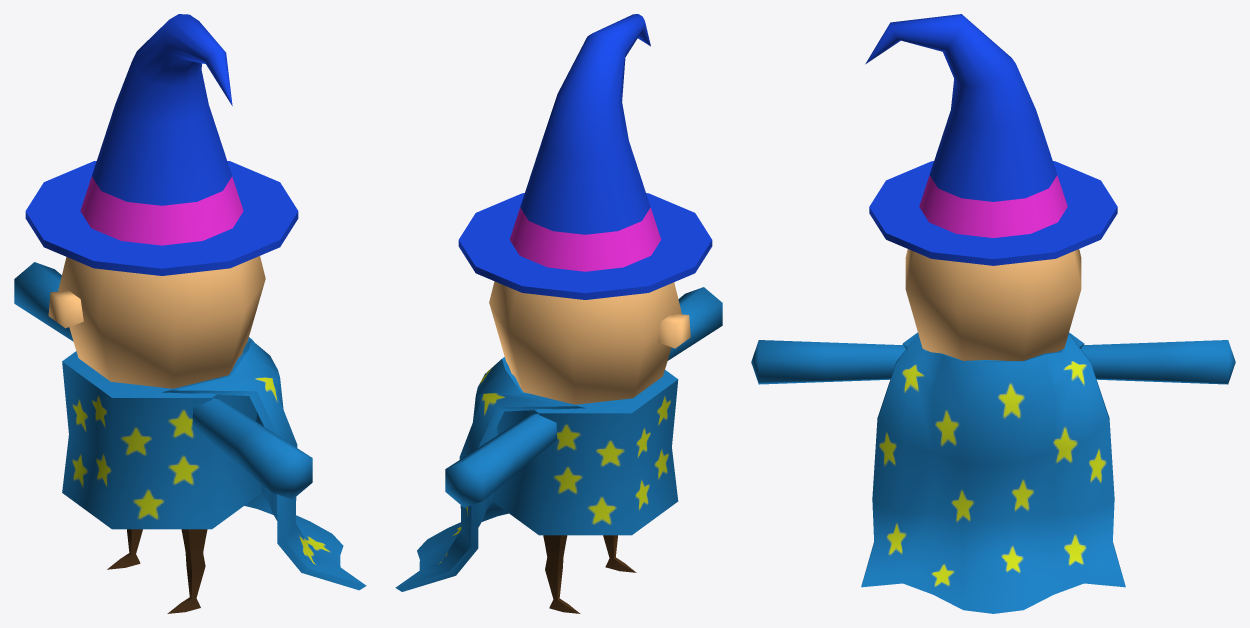
The model's file is Wizard.FBX.
The picture shows the model from 3 angles, left to right: view 1: azimuth 30°, elevation 25°; view 2: azimuth 150°, elevation 25°; view 3: azimuth 270°, elevation 25°; orthographic projection. The views are drawn at different scales.
Visible parts, largest first — view 1: Wizard, Wizard hat, Wizard cloak; view 2: Wizard, Wizard hat, Wizard cloak; view 3: Wizard cloak, Wizard hat, Wizard.
Part boxes in pixels (x1,y1,x2,y2): Wizard: (14, 256, 312, 613); Wizard hat: (25, 14, 298, 275); Wizard cloak: (162, 337, 366, 590); Wizard: (445, 281, 722, 613); Wizard hat: (458, 14, 712, 299); Wizard cloak: (395, 357, 585, 591); Wizard cloak: (861, 334, 1125, 613); Wizard hat: (865, 14, 1117, 265); Wizard: (751, 249, 1235, 384).
Bounding box in the file's own units: 1.59 × 3.08 × 2.55.
